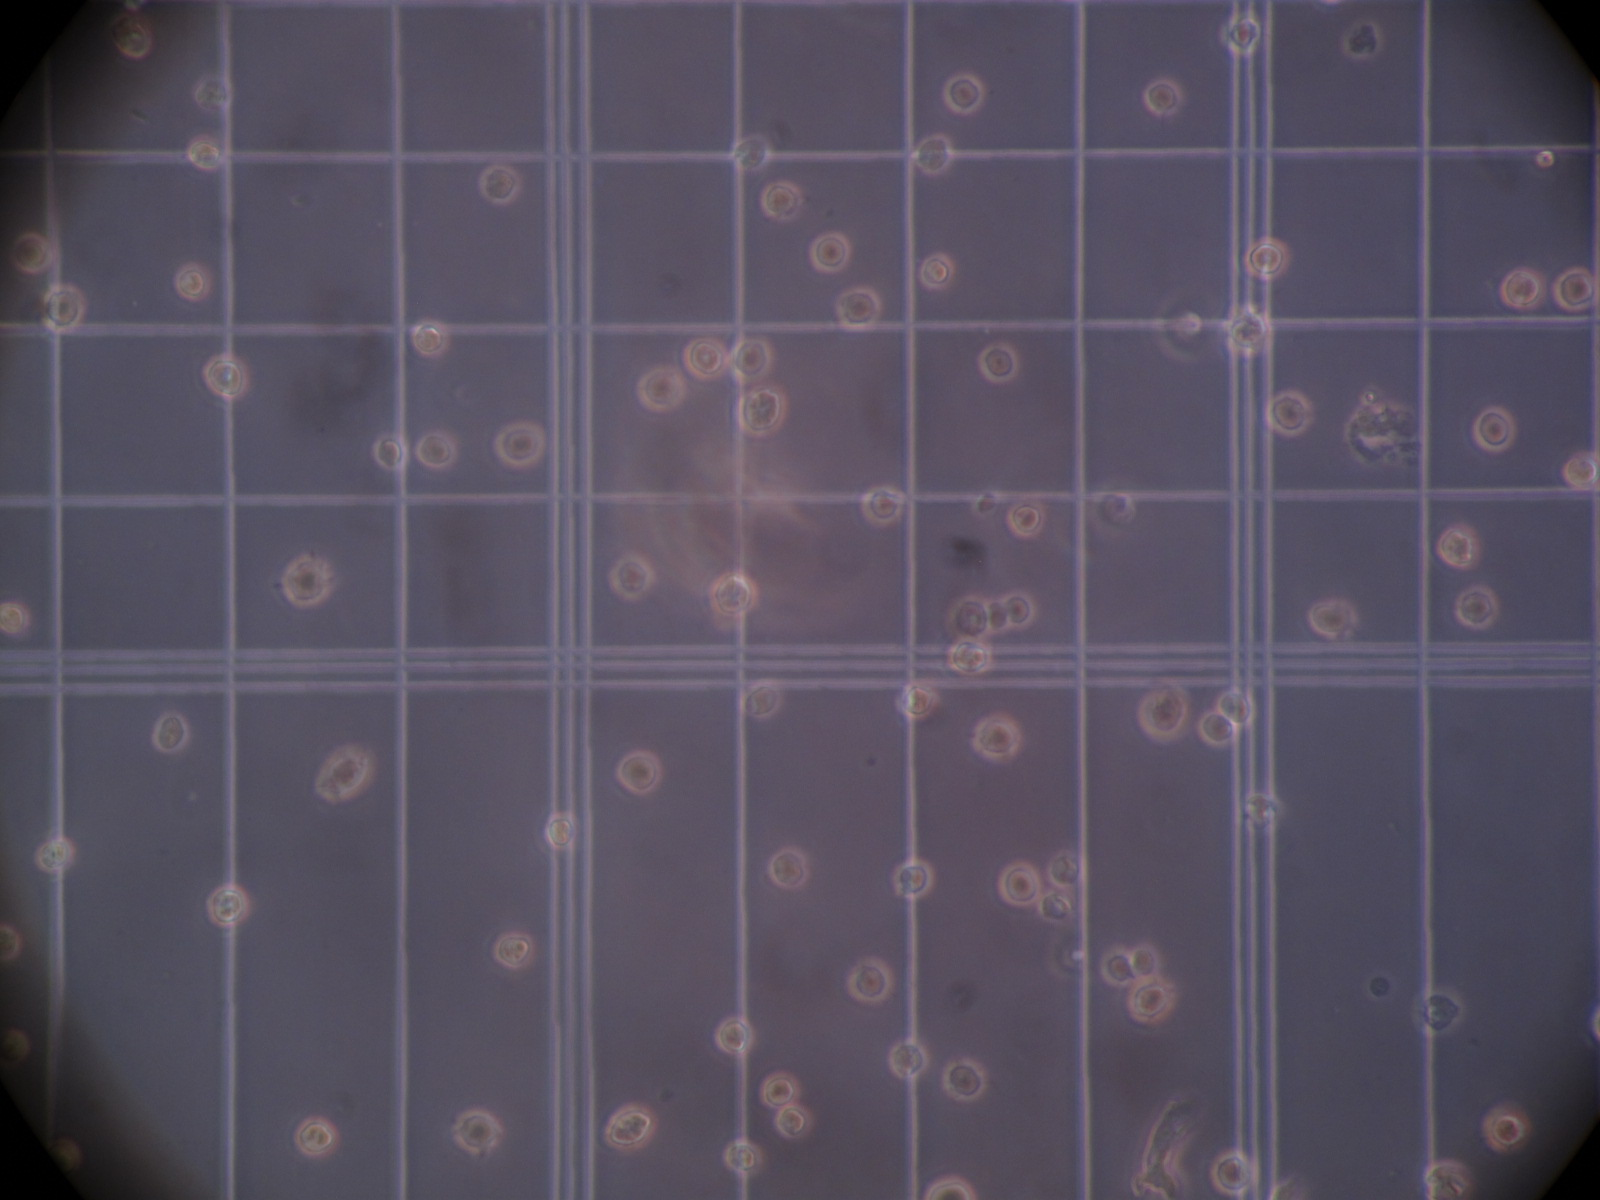hemo: (315, 744, 378, 804), (1154, 289, 1204, 361), (1083, 478, 1134, 542), (1136, 686, 1191, 742), (603, 1100, 658, 1155), (737, 383, 787, 439), (1225, 303, 1272, 358), (1482, 1102, 1529, 1155), (1264, 389, 1314, 439), (495, 418, 546, 468), (454, 1105, 503, 1155), (970, 713, 1022, 760), (39, 282, 86, 334), (1128, 976, 1175, 1024), (282, 555, 329, 604), (1471, 405, 1517, 455), (199, 352, 249, 397), (1552, 266, 1600, 313), (607, 555, 654, 603), (1436, 522, 1482, 571), (1209, 1150, 1259, 1195), (847, 955, 892, 1005), (835, 282, 879, 333), (1500, 265, 1547, 311), (1242, 236, 1290, 281), (1414, 989, 1461, 1035), (616, 749, 661, 797), (944, 596, 990, 642), (942, 1058, 989, 1103), (1424, 1156, 1471, 1200), (637, 369, 685, 413), (110, 11, 152, 61), (711, 574, 757, 618), (732, 335, 774, 384), (1308, 597, 1358, 638), (997, 860, 1041, 905), (294, 1114, 340, 1157), (1456, 582, 1498, 629), (683, 338, 729, 379), (860, 485, 905, 528), (767, 847, 810, 891), (207, 885, 249, 929), (10, 228, 52, 274), (975, 342, 1018, 384), (809, 232, 850, 275), (1220, 13, 1260, 57), (761, 182, 803, 223), (942, 71, 981, 115), (1143, 76, 1182, 118), (491, 932, 535, 969), (1198, 708, 1238, 749), (741, 679, 781, 720), (915, 135, 954, 176), (897, 679, 939, 718), (480, 164, 519, 205), (1340, 21, 1383, 59), (946, 638, 991, 673), (889, 1039, 929, 1079), (1240, 792, 1281, 829), (892, 860, 934, 897), (716, 1013, 753, 1055), (152, 711, 189, 754), (1562, 450, 1600, 490), (1005, 500, 1046, 538), (729, 134, 770, 171), (918, 251, 955, 292), (1003, 589, 1038, 632), (761, 1071, 803, 1107), (174, 261, 209, 303), (1218, 689, 1255, 729), (724, 1138, 763, 1175), (414, 431, 454, 468), (186, 134, 223, 171), (34, 837, 73, 872), (370, 435, 407, 471), (194, 76, 232, 111), (1101, 948, 1135, 987), (925, 1175, 976, 1200), (411, 320, 447, 355), (776, 1105, 813, 1139), (1, 1027, 31, 1068), (1036, 892, 1076, 921), (1048, 853, 1082, 887), (546, 812, 574, 850), (1133, 944, 1158, 984), (985, 596, 1008, 638), (1, 603, 29, 637), (1, 926, 23, 966)
